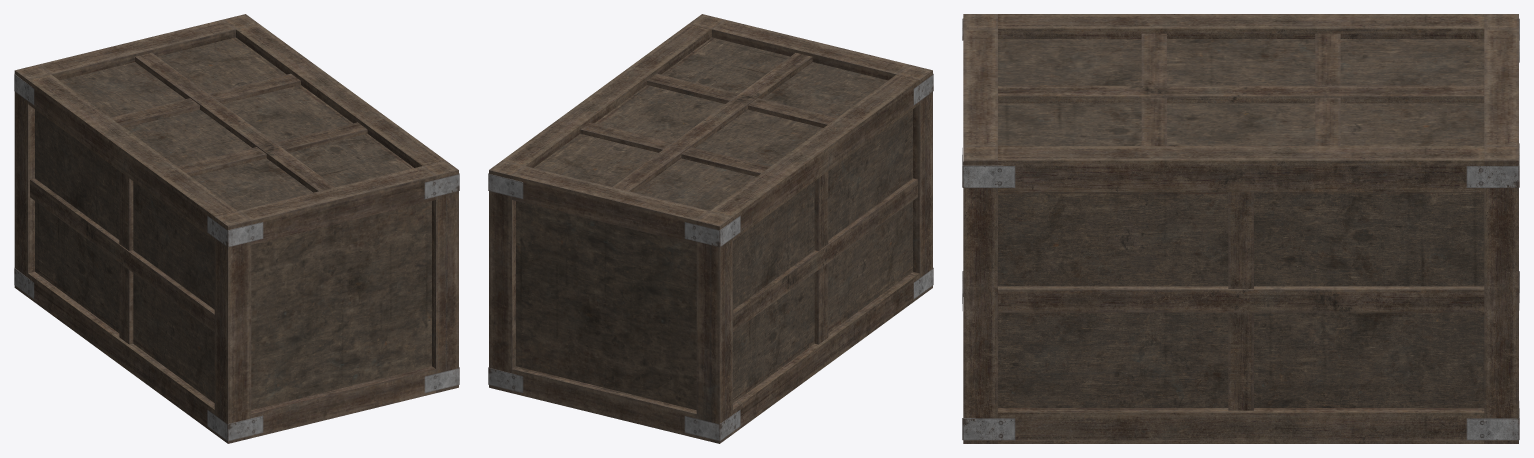
3 views of the same model, side by side, from view 1: azimuth 30°, elevation 25°; view 2: azimuth 150°, elevation 25°; view 3: azimuth 270°, elevation 25° (orthographic). The views are drawn at different scales.
Visible parts, largest first — view 1: SM_box_04_LOD0; view 2: SM_box_04_LOD0; view 3: SM_box_04_LOD0.
Part boxes in pixels (box(x1,y1,x2,y2)): SM_box_04_LOD0: box(14, 14, 459, 443); SM_box_04_LOD0: box(488, 14, 933, 443); SM_box_04_LOD0: box(962, 14, 1519, 443).
Size of the model in its own units: 101 by 161 by 90.
1 material, 1 textured.
